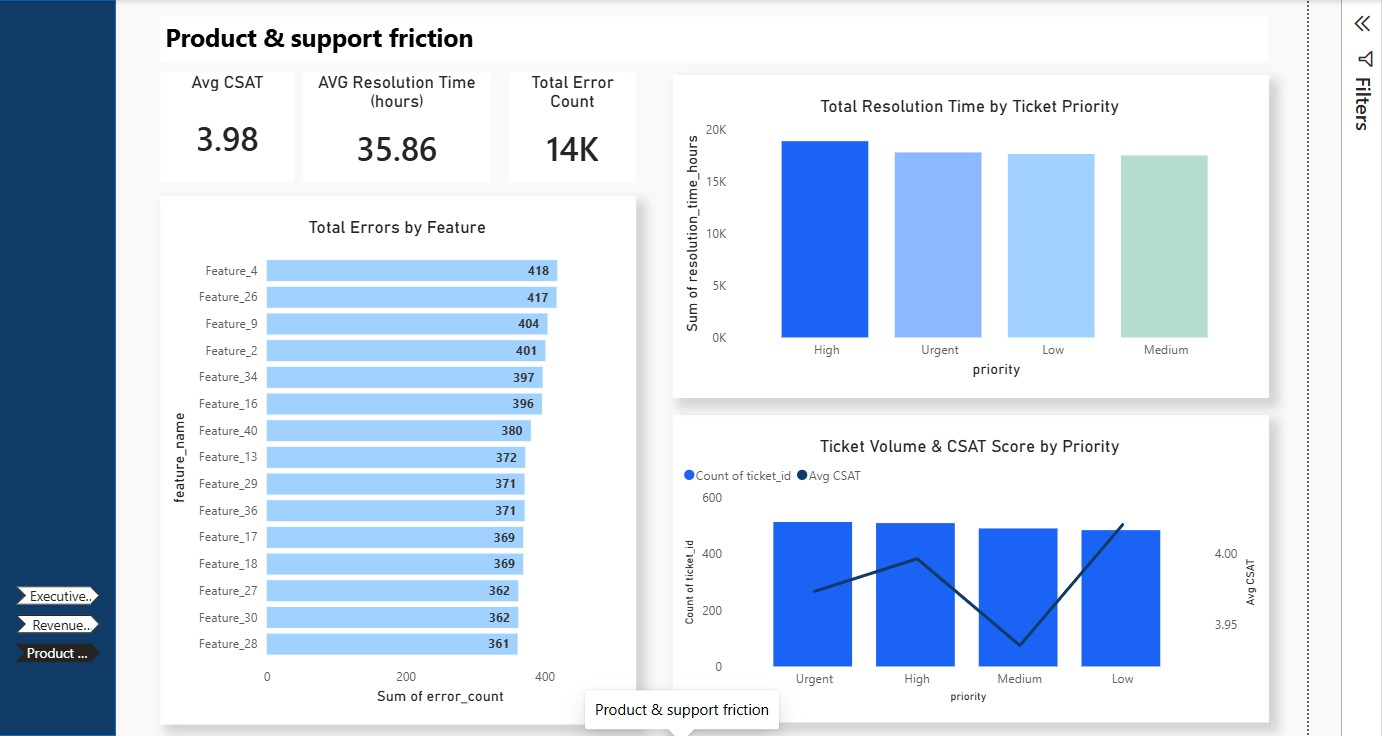

The dashboard page shown, as its layout file describes it:
{"tool":"powerbi","page":{"name":"Product & support friction","canvas":[1280,720],"ordinal":2},"visuals":[{"type":"shape","box":[0,0,114.3,720],"z":0},{"type":"cardVisual","title":"Avg CSAT","fields":{"Data":["_Measures.Avg CSAT"]},"box":[157.1,70,131.4,108.6],"z":1000},{"type":"cardVisual","title":"AVG Resolution Time (hours)","fields":{"Data":["Avg(support_tickets.resolution_time_hours)"]},"box":[297.1,70,184.3,108.6],"z":2000},{"type":"lineClusteredColumnComboChart","title":"Ticket Volume & CSAT Score by Priority","fields":{"Category":["support_tickets.priority"],"Y":["CountNonNull(support_tickets.ticket_id)"],"Y2":["_Measures.Avg CSAT"]},"box":[658.6,405.7,582.9,301],"z":3000},{"type":"clusteredColumnChart","title":"Total Resolution Time by Ticket Priority","fields":{"Category":["support_tickets.priority"],"Y":["Sum(support_tickets.resolution_time_hours)"]},"box":[658.6,72.9,582.9,315.7],"z":4000},{"type":"cardVisual","title":"Total Error Count","fields":{"Data":["Sum(feature_usage.error_count)"]},"box":[498.6,70,124.3,108.6],"z":5000},{"type":"clusteredBarChart","title":"Total Errors by Feature","fields":{"Category":["feature_usage.feature_name"],"Y":["Sum(feature_usage.error_count)"]},"box":[157.1,191.4,465.7,517.1],"z":6000},{"type":"pageNavigator","box":[15.9,573.5,83.2,74.6],"z":7000},{"type":"textbox","box":[157.1,15.7,1084.3,44.3],"z":8000}]}

Visuals, with their boxes on the page's 1280x720 design canvas (x1, y1, x2, y2). These are canvas units, not pixel positions in the 1382x736 screenshot, which may show the page scaled, cropped or inside an application window:
shape: x1=0 y1=0 x2=114 y2=720
"Avg CSAT" cardVisual: x1=157 y1=70 x2=288 y2=179
"AVG Resolution Time (hours)" cardVisual: x1=297 y1=70 x2=481 y2=179
"Ticket Volume & CSAT Score by Priority" lineClusteredColumnComboChart: x1=659 y1=406 x2=1242 y2=707
"Total Resolution Time by Ticket Priority" clusteredColumnChart: x1=659 y1=73 x2=1242 y2=389
"Total Error Count" cardVisual: x1=499 y1=70 x2=623 y2=179
"Total Errors by Feature" clusteredBarChart: x1=157 y1=191 x2=623 y2=708
pageNavigator: x1=16 y1=574 x2=99 y2=648
textbox: x1=157 y1=16 x2=1241 y2=60
